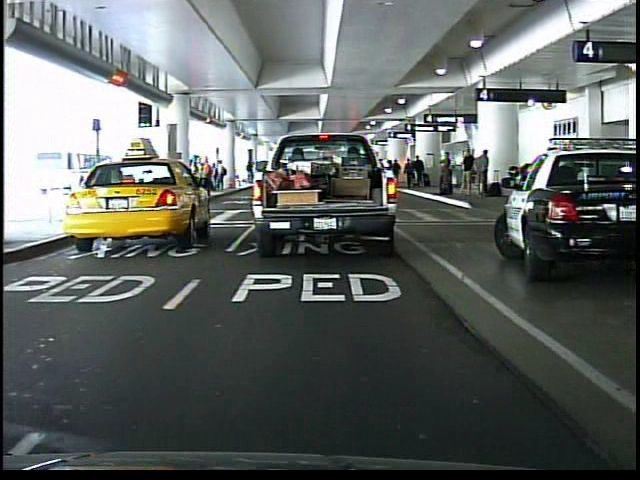person: (287, 146, 318, 224), (347, 144, 372, 207), (245, 159, 257, 186)
